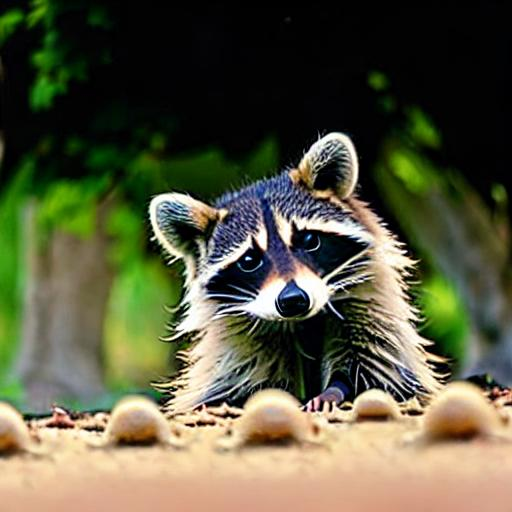raccoon: (145, 125, 451, 419)
